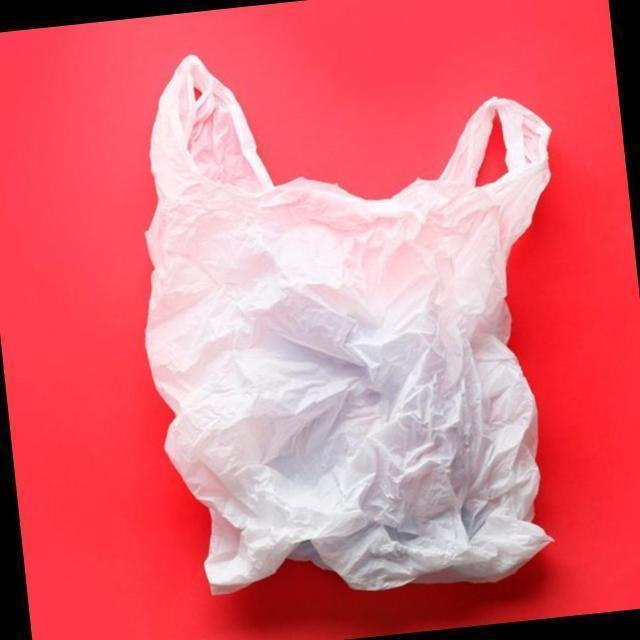KantongPlastik: (142, 52, 556, 596)
